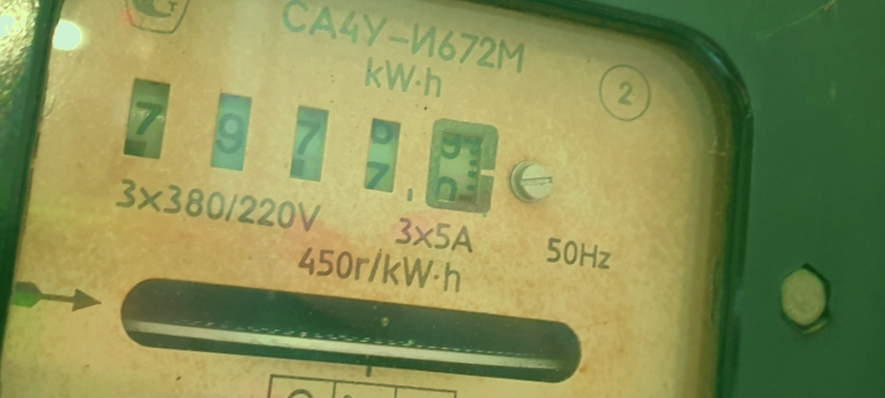0: (431, 170, 457, 201)
7: (126, 93, 164, 141), (359, 150, 393, 194), (290, 114, 323, 158)
9: (210, 106, 246, 157), (434, 126, 467, 161)
screen: (105, 62, 516, 229)
